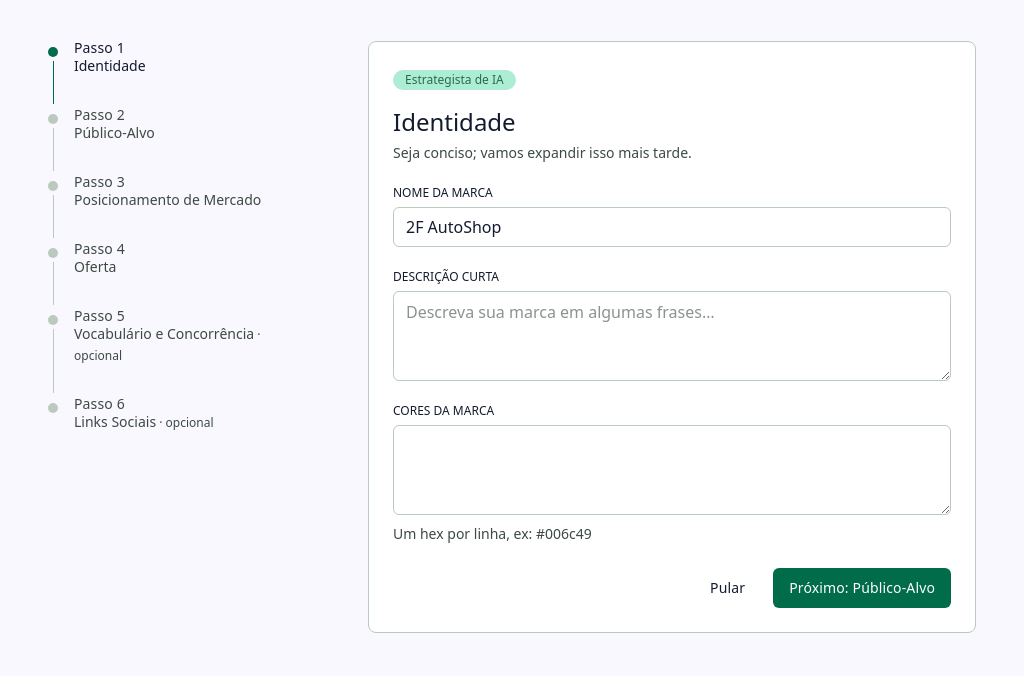
Test: erro da API num item de lista aparece no campo, e a mensagem geral também
(page scrolled)
Click the button "Passo 5 Vocabulário e Concorrência · opcional" at (189, 353), box [74,309,304,397]
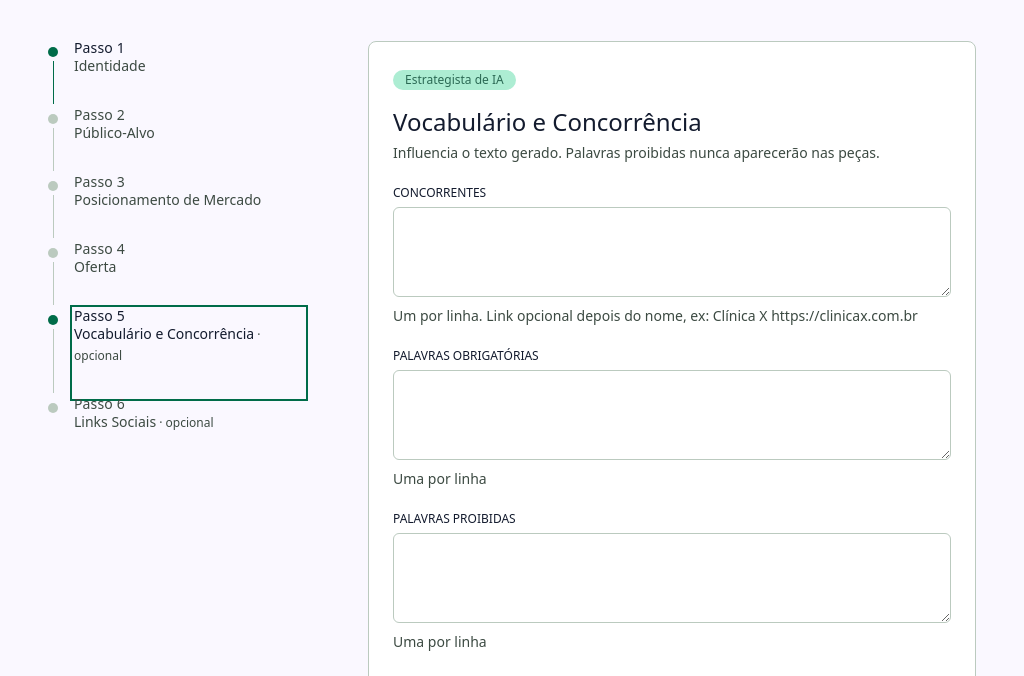
Type "x" into the text box labelled "Palavras proibidas" at (672, 578), box [393,533,951,623]
(page scrolled)
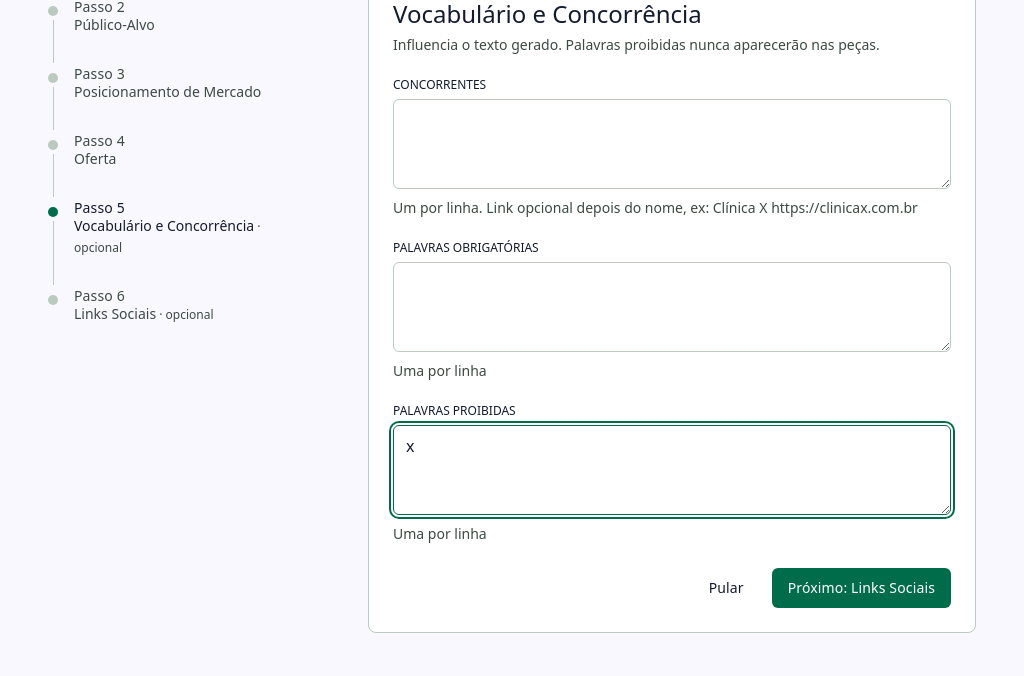
Click the button "Próximo: Links Sociais" at (861, 588), box [772,568,951,608]
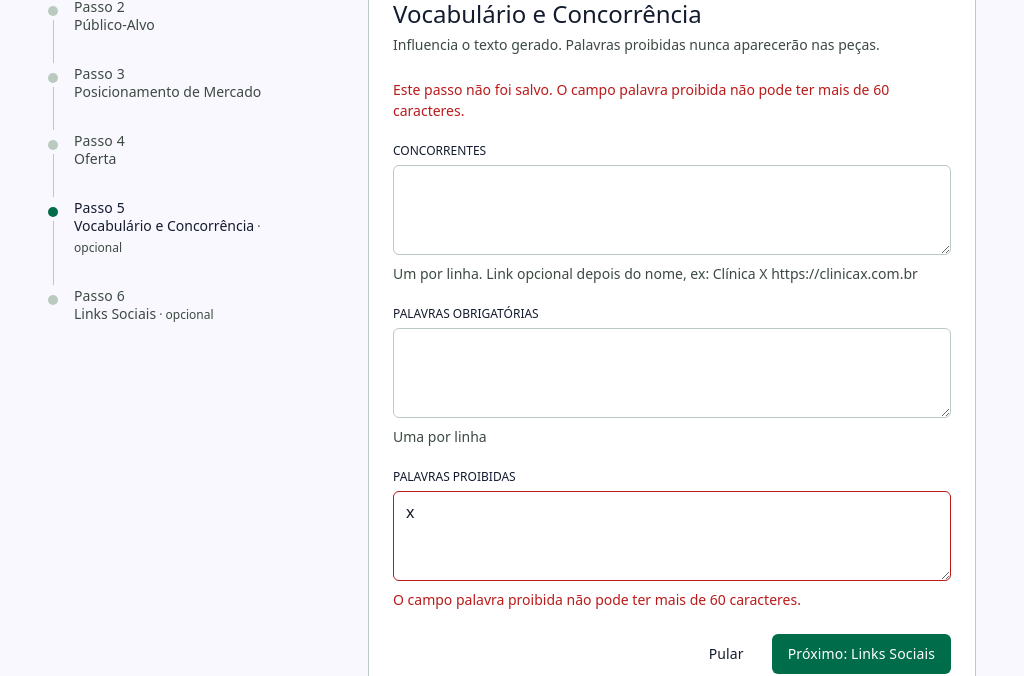
Result: the message shows "não foi salvo" at [393,80,553,99]
